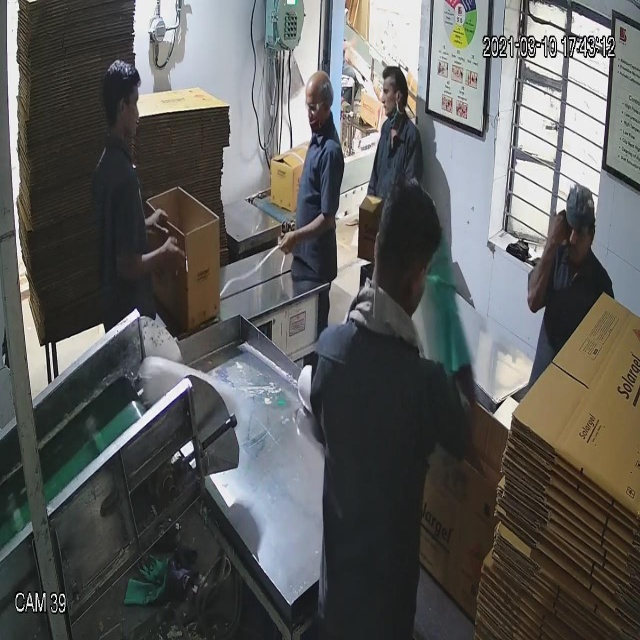Sin_guantes: (521, 202, 568, 315), (112, 232, 186, 286), (271, 202, 336, 262)
